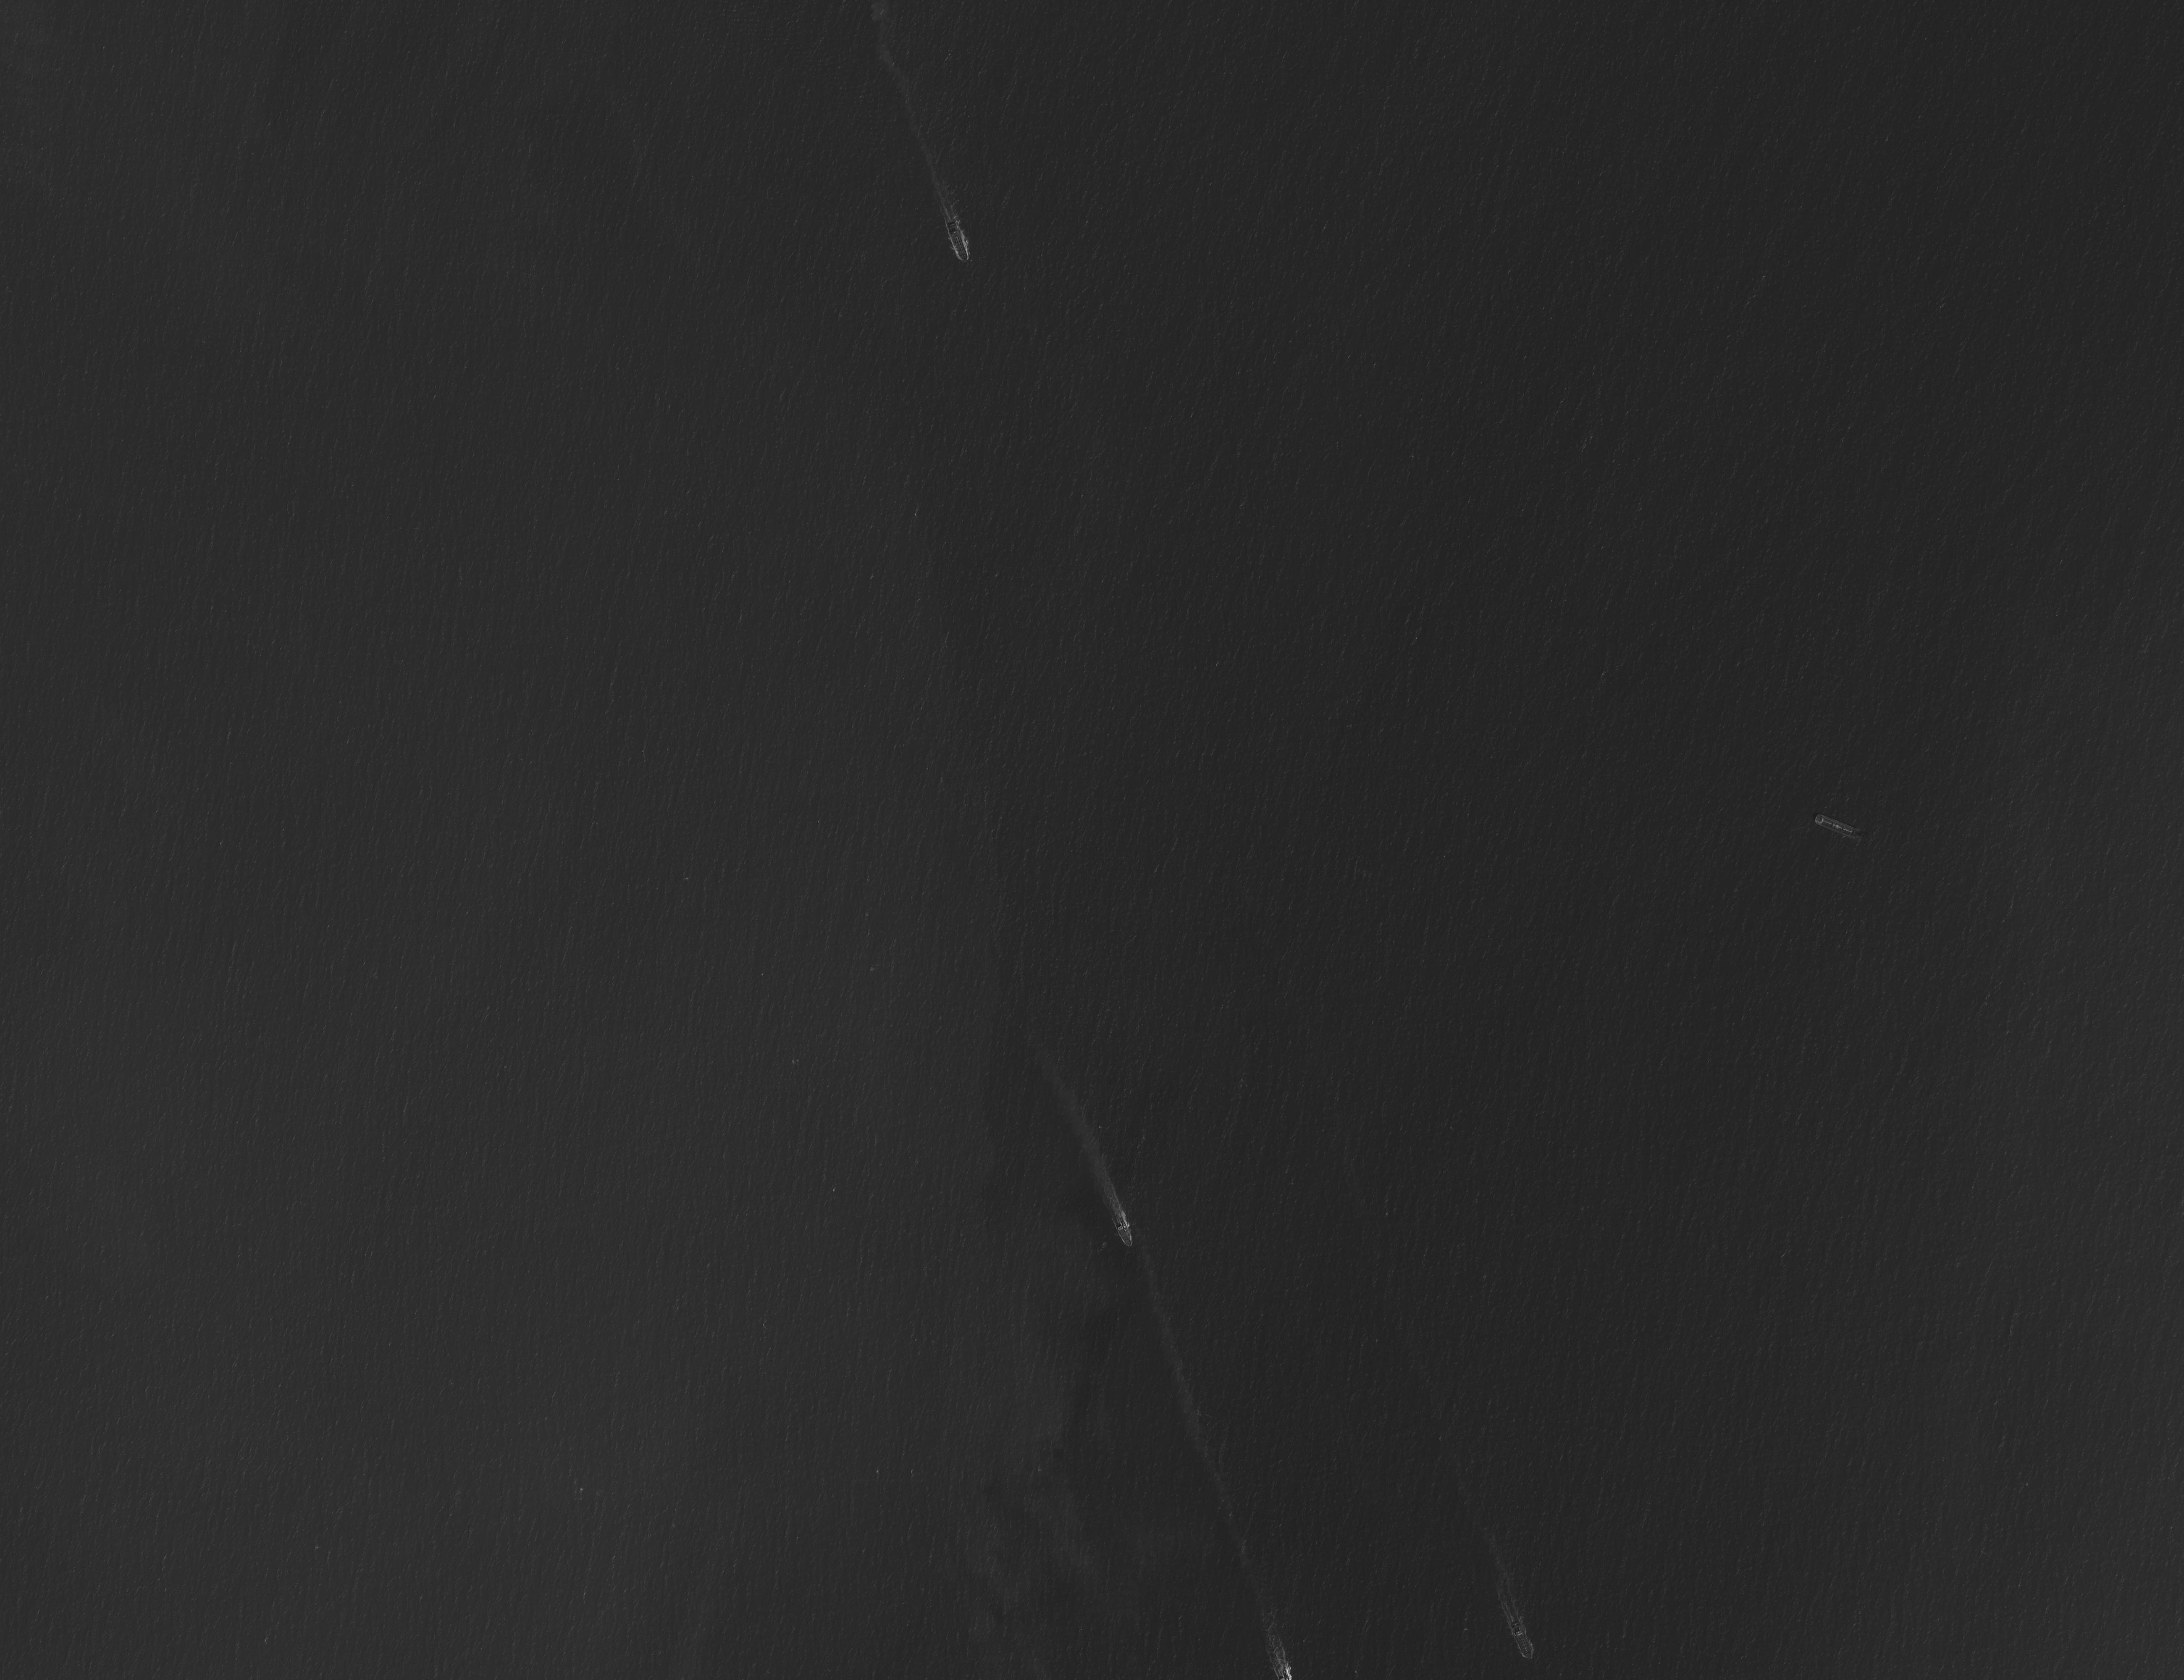ship: (1814, 814, 1861, 840), (944, 219, 972, 263), (1508, 1620, 1535, 1661), (1115, 1223, 1133, 1248), (1118, 1218, 1127, 1230), (1283, 1669, 1291, 1678)
